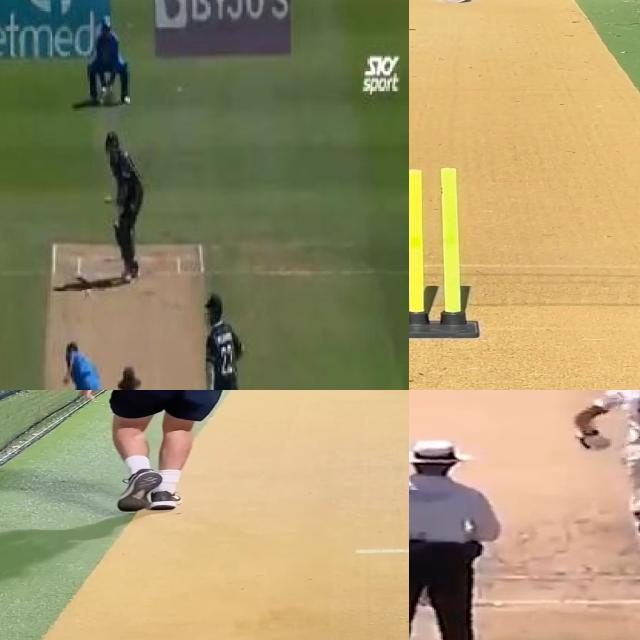Cricket ball: (82, 290, 93, 304)
Stumps: (409, 164, 480, 339)
